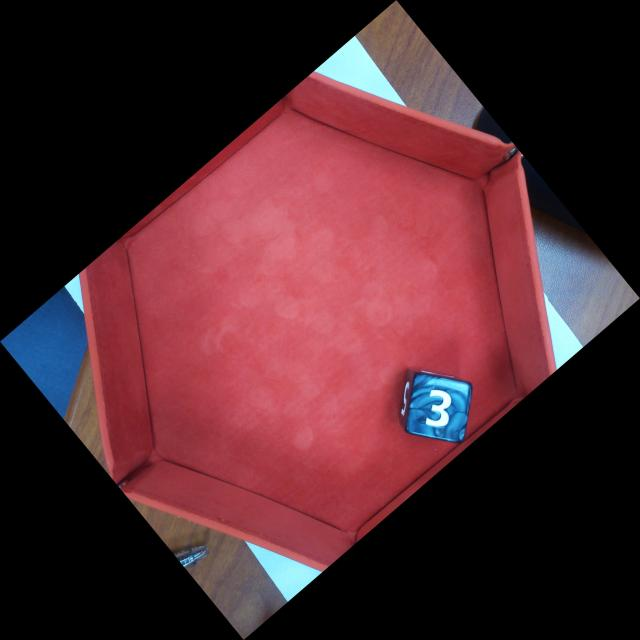dice: (404, 369, 473, 443)
